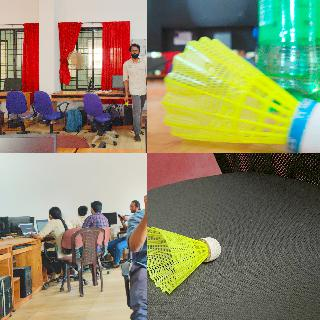shuttlecock: (162, 35, 319, 152), (147, 226, 222, 294), (124, 101, 128, 105)
